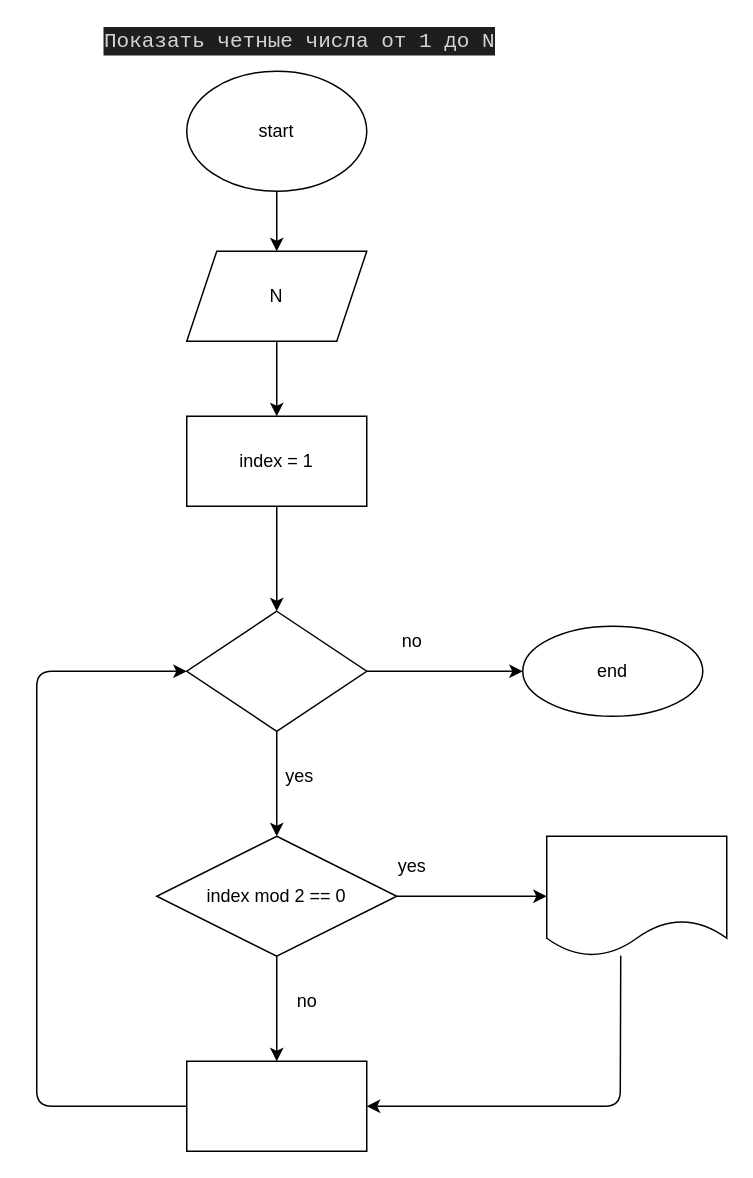
The diagram is 753 pixels wide and 1178 high, and some of its shapes have lost their labels. The centre of each missing label's shape, as x and y in pixels:
"index" goes at (636,895).
"index ++" goes at (276,1105).
"index < N" goes at (276,670).
